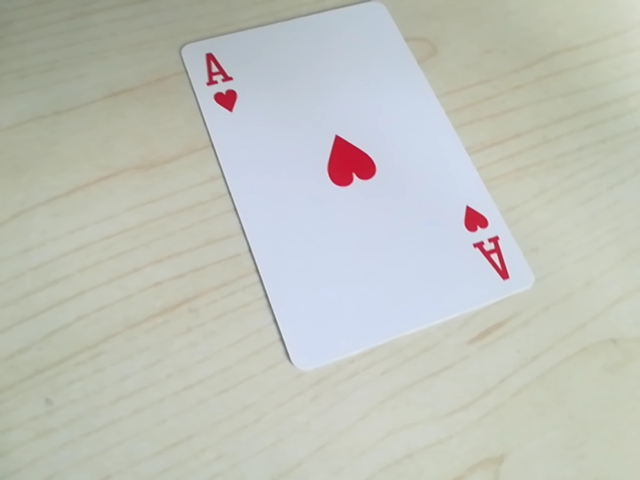hx a: (463, 207, 513, 281), (192, 46, 242, 117)
